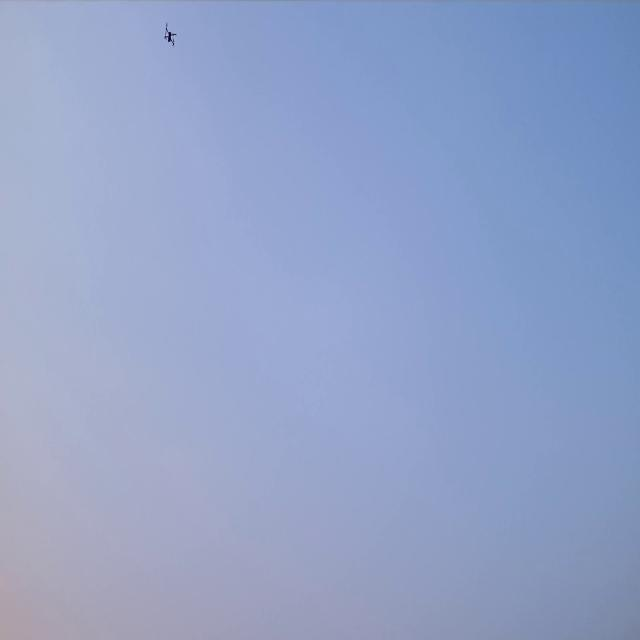UAV: (162, 18, 178, 52)
